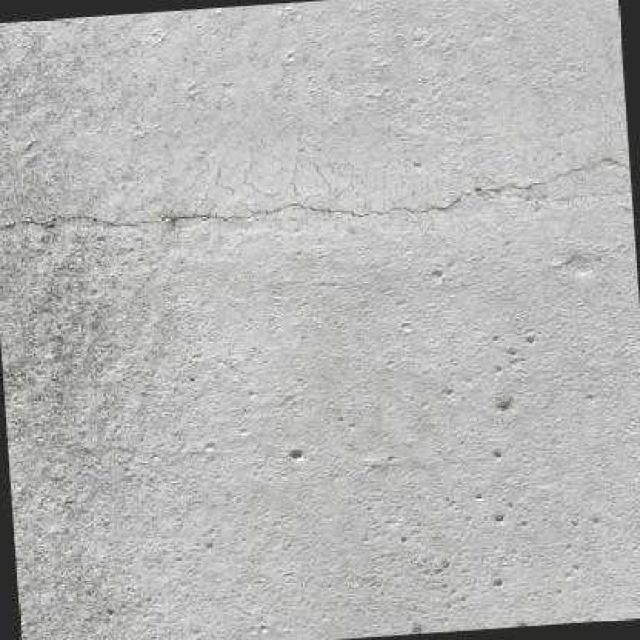D00: (0, 153, 632, 230)
